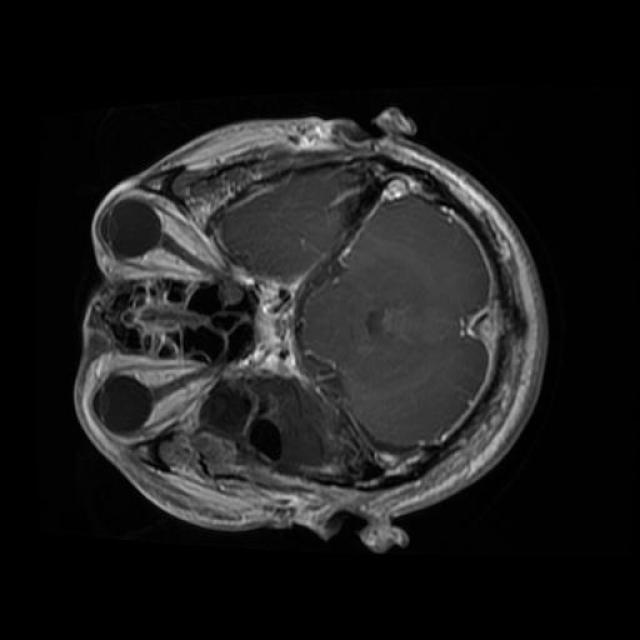Glioma: (200, 371, 344, 476)
